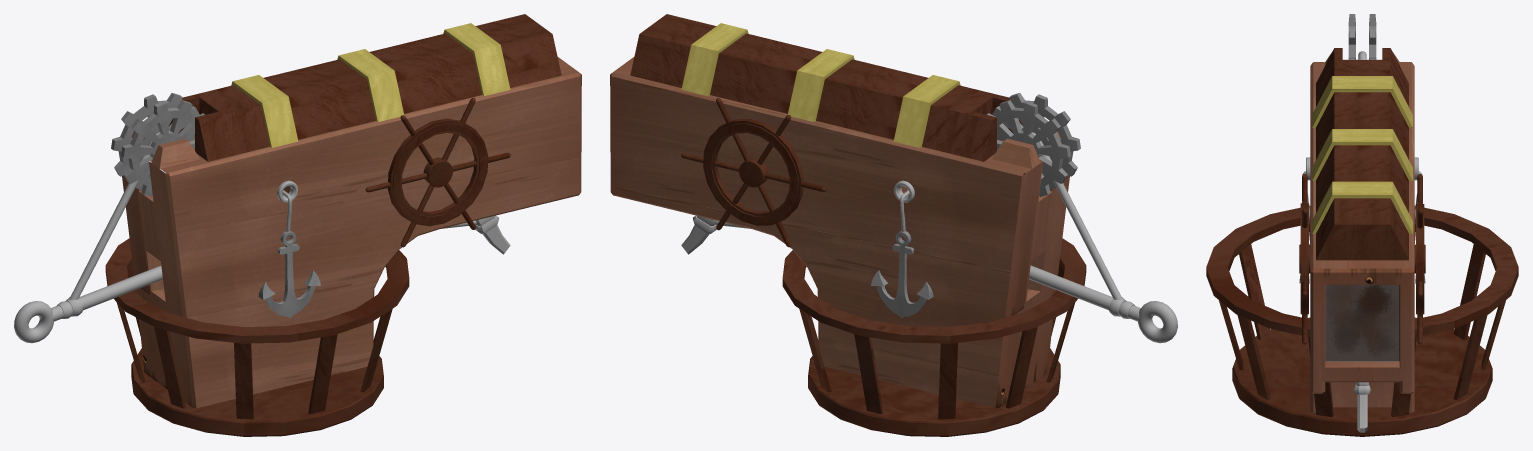
The model's file is Tower1.fbx.
3 renders of one model, left to right at view 1: azimuth 30°, elevation 25°; view 2: azimuth 150°, elevation 25°; view 3: azimuth 270°, elevation 25°, orthographic. The views are drawn at different scales.
Parts seen in each view (by area): view 1: polySurface1, pCube1, pCube25, polySurface15, pCylinder4, pCylinder6, pCube4, pCylinder10, pCube2; view 2: polySurface1, pCube1, pCube25, polySurface16, pCylinder4, pCylinder6, pCube15, pCylinder10, pCube2; view 3: pCube25, pCube1, polySurface1, polySurface15, polySurface16, pCylinder4, pCube2.
Boxes of the visible parts, x1,y1,x2,y2 form: polySurface1: [122, 57, 581, 408]; pCube1: [169, 14, 561, 161]; pCube25: [105, 238, 409, 436]; polySurface15: [365, 98, 510, 247]; pCylinder4: [111, 93, 204, 196]; pCylinder6: [14, 265, 162, 343]; pCube4: [258, 231, 320, 318]; pCylinder10: [69, 132, 476, 300]; pCube2: [475, 215, 510, 254]; polySurface1: [610, 57, 1069, 408]; pCube1: [630, 14, 1022, 161]; pCube25: [782, 238, 1086, 436]; polySurface16: [681, 98, 826, 247]; pCylinder4: [987, 93, 1080, 196]; pCylinder6: [1029, 265, 1177, 343]; pCube15: [871, 231, 933, 318]; pCylinder10: [715, 132, 1122, 300]; pCube2: [681, 215, 716, 254]; pCube25: [1206, 205, 1518, 436]; pCube1: [1312, 48, 1412, 260]; polySurface1: [1310, 52, 1414, 412]; polySurface15: [1299, 174, 1310, 344]; polySurface16: [1414, 174, 1425, 344]; pCylinder4: [1348, 14, 1376, 59]; pCube2: [1354, 382, 1370, 432].
Size of the model in its own units: 73.9 by 40.21 by 36.
